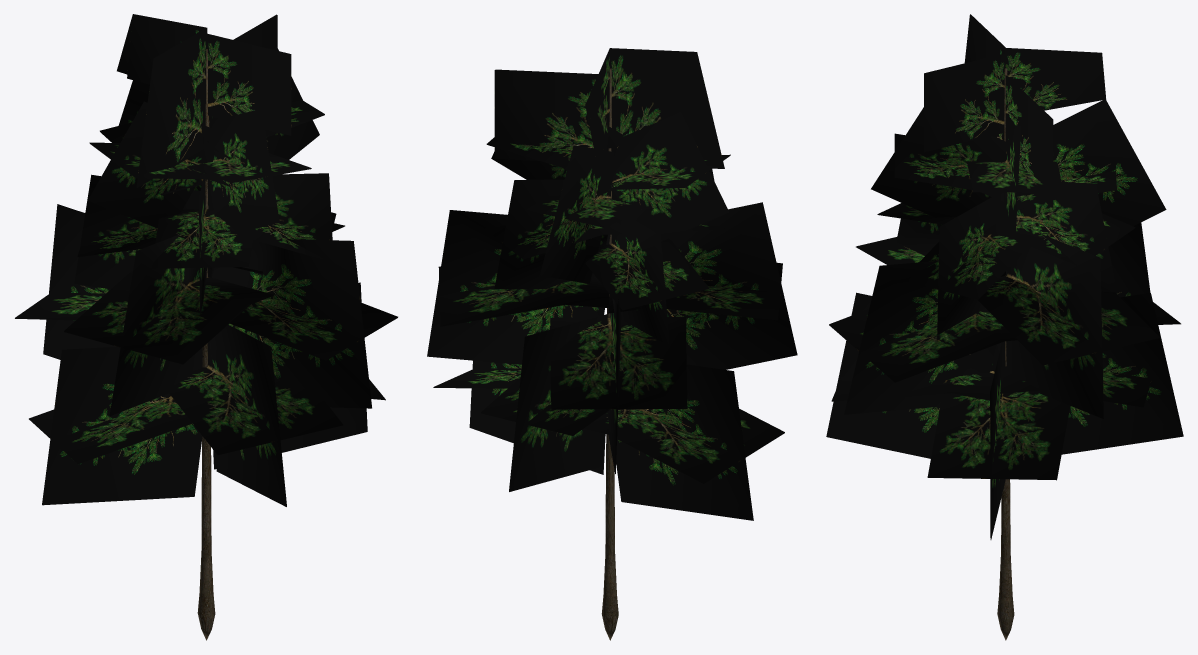
Rendered from ever_endr_babyredwood_a2_l0.fbx.
The picture shows the model from 3 angles, left to right: view 1: azimuth 30°, elevation 25°; view 2: azimuth 150°, elevation 25°; view 3: azimuth 270°, elevation 25°; orthographic projection. The views are drawn at different scales.
Parts seen in each view (by area): view 1: mesh_node; view 2: mesh_node; view 3: mesh_node.
Part boxes in pixels (x1,y1,x2,y2): mesh_node: [15, 14, 397, 640]; mesh_node: [427, 48, 797, 640]; mesh_node: [826, 14, 1183, 640].
Size of the model in its own units: 10.01 by 18.55 by 10.13.
